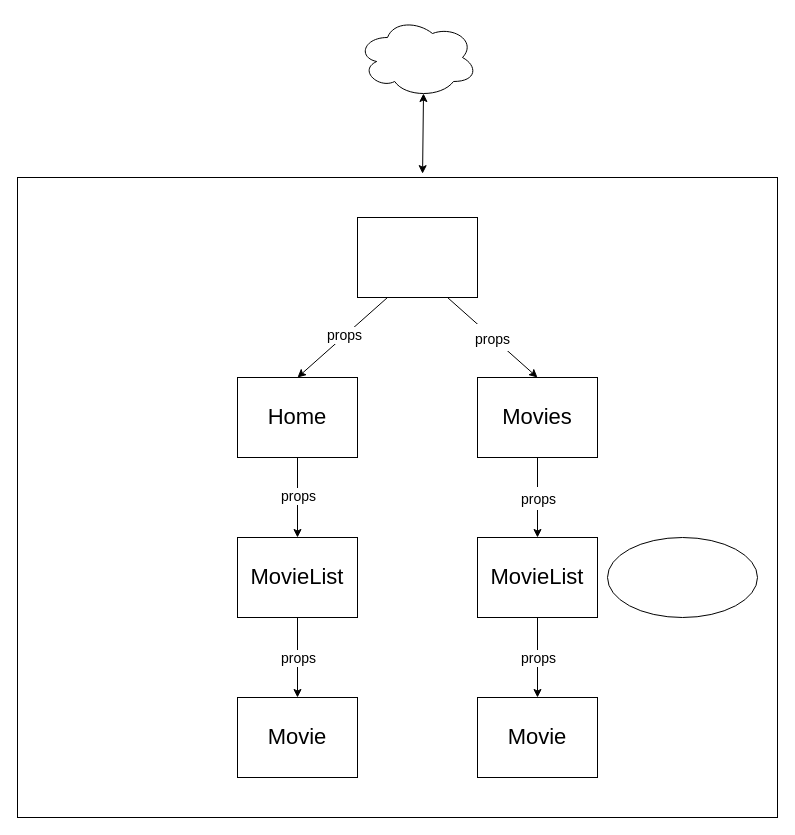
The diagram is 795 pixels wide and 835 high, and some of its shapes have lost their labels. The centre of each missing label's shape, as x and y in pixels:
API: the point at 417,57
App: the point at 417,257
state (movies): the point at 682,577
